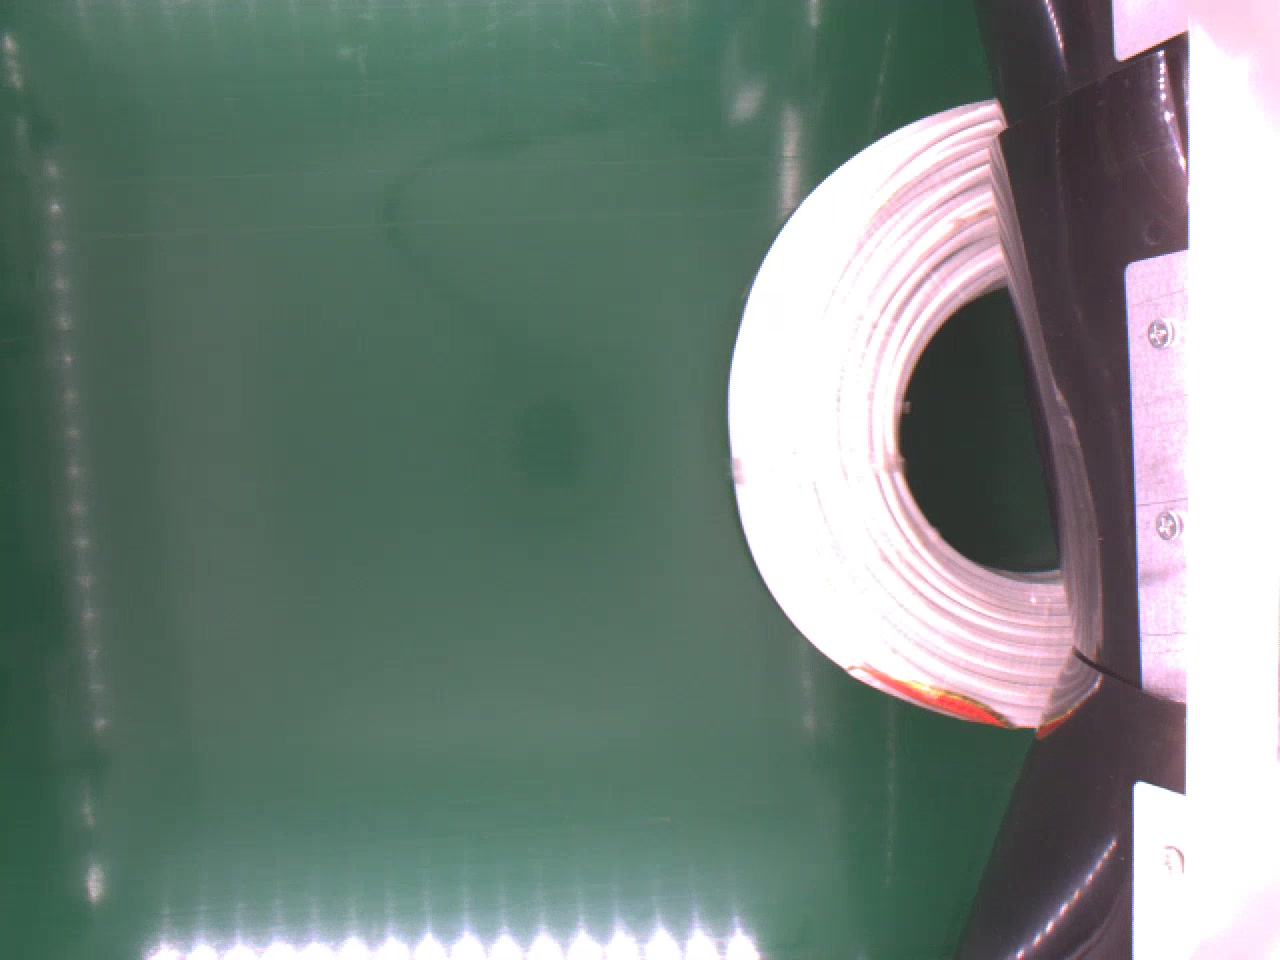white: (722, 97, 1072, 729)
